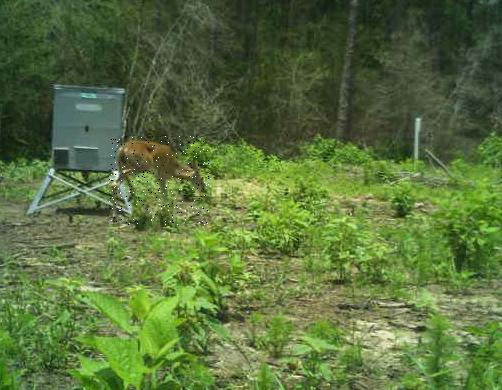Deer: (110, 137, 210, 226)
